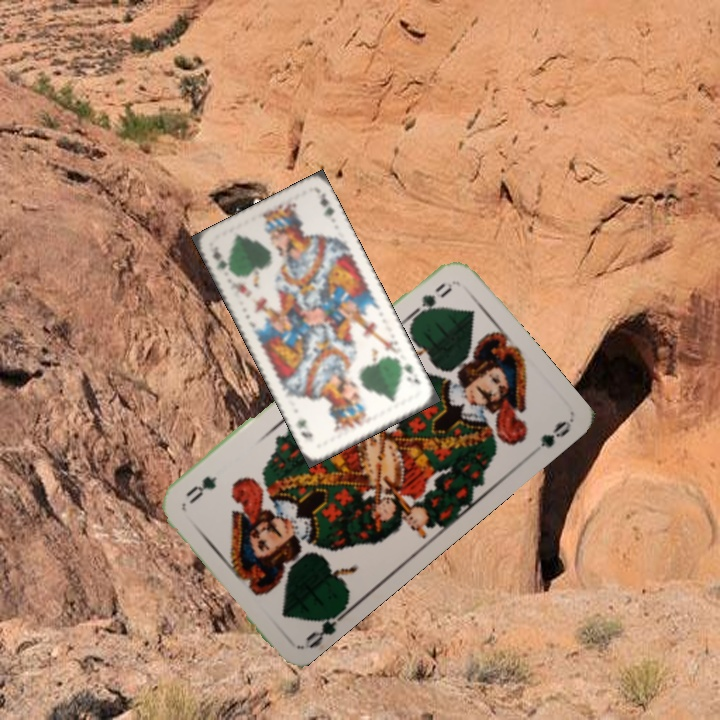GK: (205, 242, 235, 277), (395, 358, 423, 387)
GO: (301, 605, 350, 652), (404, 279, 455, 324)
